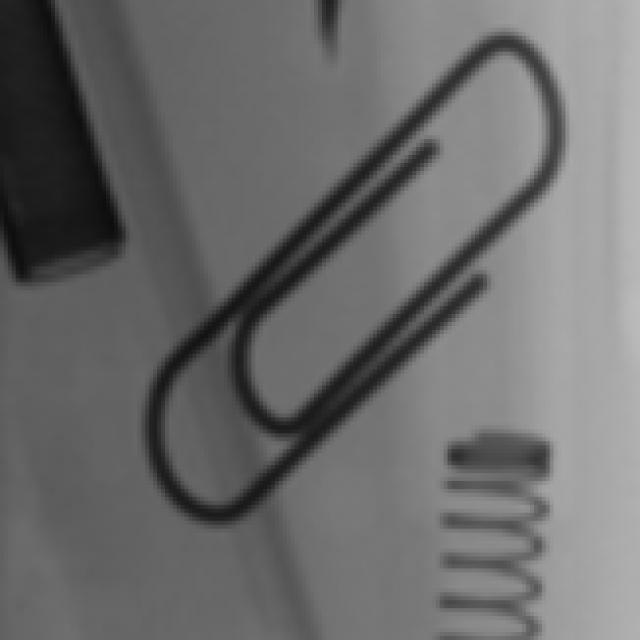GUN: (1, 9, 136, 261)
